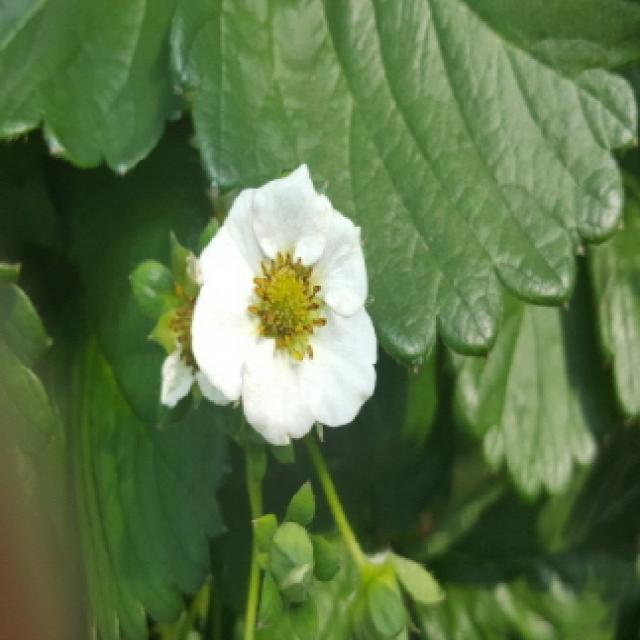Blossom Blight: (242, 247, 335, 367)
